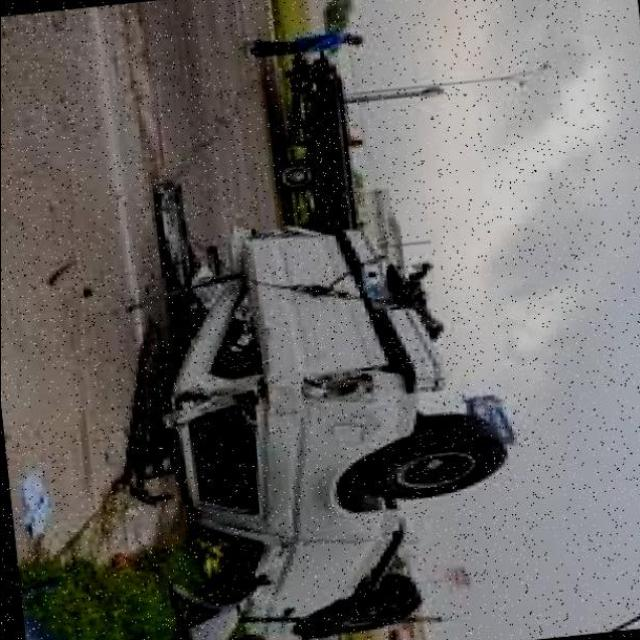accident: (106, 180, 534, 640)
